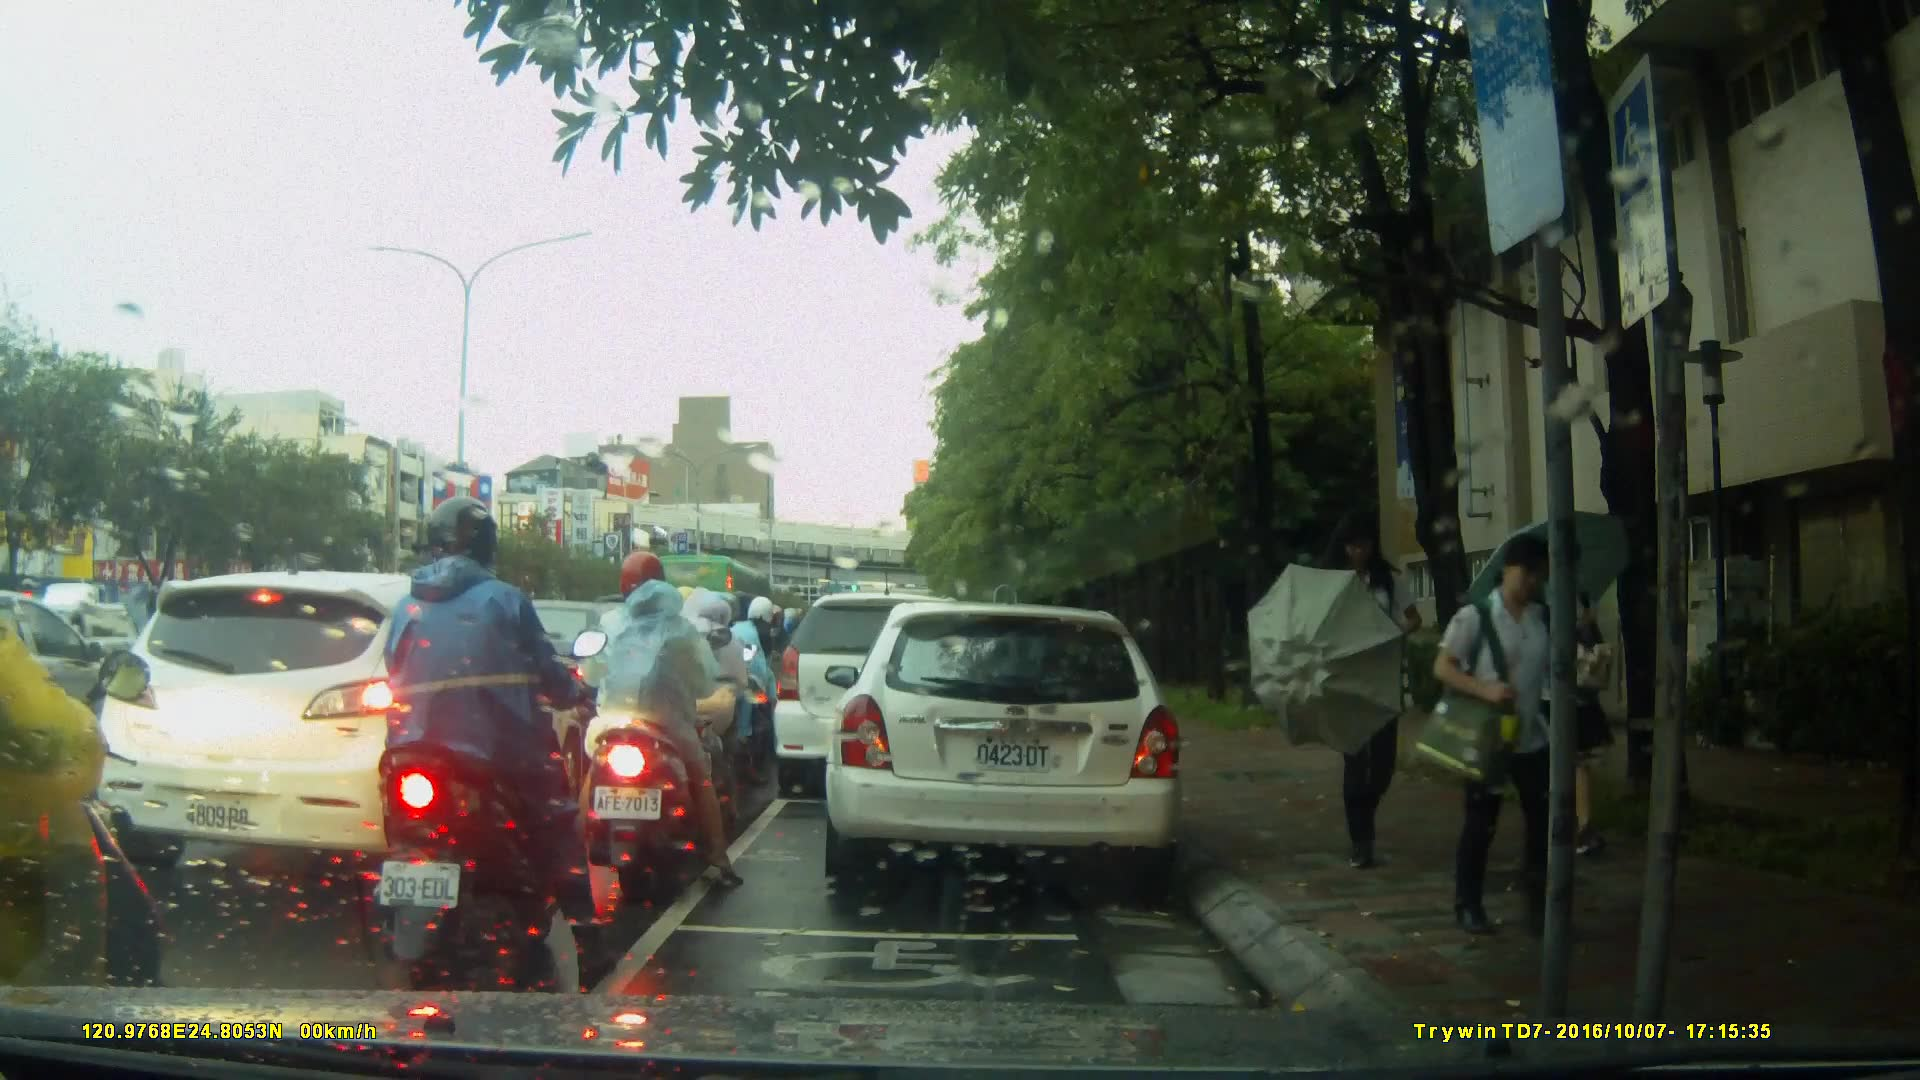pedestrian: (1427, 530, 1579, 940), (1509, 523, 1608, 868), (1325, 510, 1408, 887)
rider: (375, 495, 614, 970), (1, 455, 178, 1080), (575, 558, 747, 891), (640, 580, 764, 823), (710, 594, 788, 768)
vehicle: (96, 569, 617, 883), (822, 604, 1188, 883), (774, 595, 995, 802)
